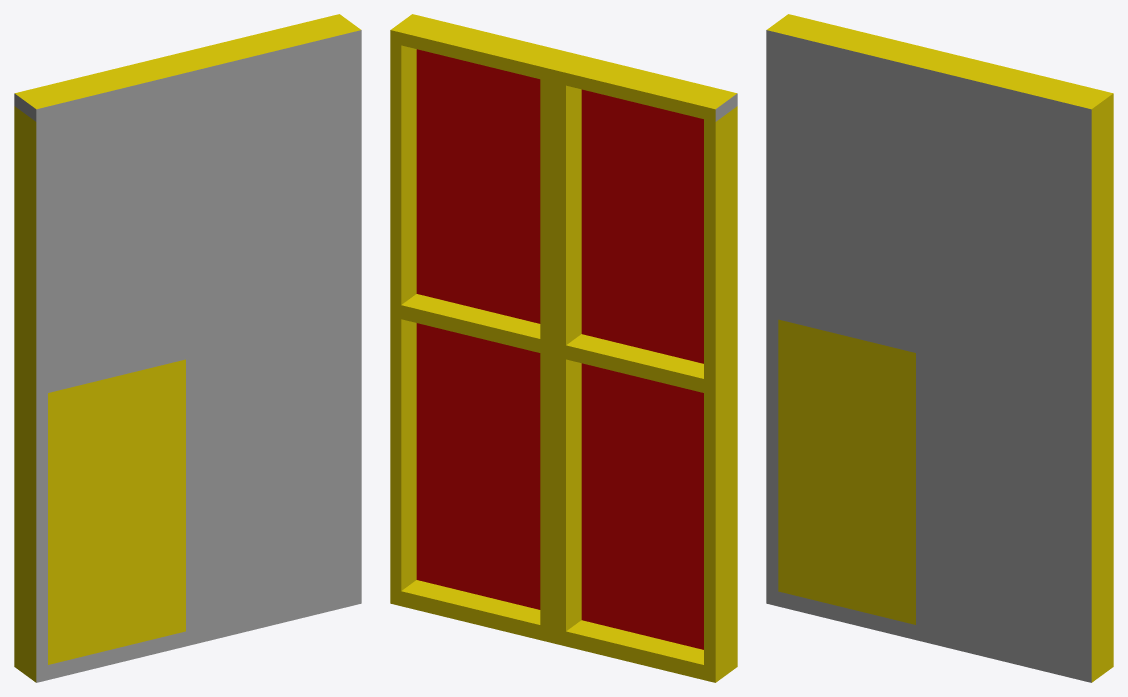
File: Window_1.fbx
3 views of the same model, side by side, from view 1: azimuth 30°, elevation 25°; view 2: azimuth 150°, elevation 25°; view 3: azimuth 330°, elevation 25° (orthographic).
Parts seen in each view (by area): view 1: pCube108; view 2: pCube108; view 3: pCube108.
Boxes of the visible parts, box(x1,y1,x2,y2) form: pCube108: box(14, 14, 361, 682); pCube108: box(390, 14, 737, 682); pCube108: box(766, 14, 1113, 682).
Bounding box in the file's own units: 15.18 × 25.59 × 1.77.
